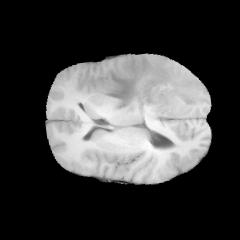glioma: (104, 55, 204, 113)
